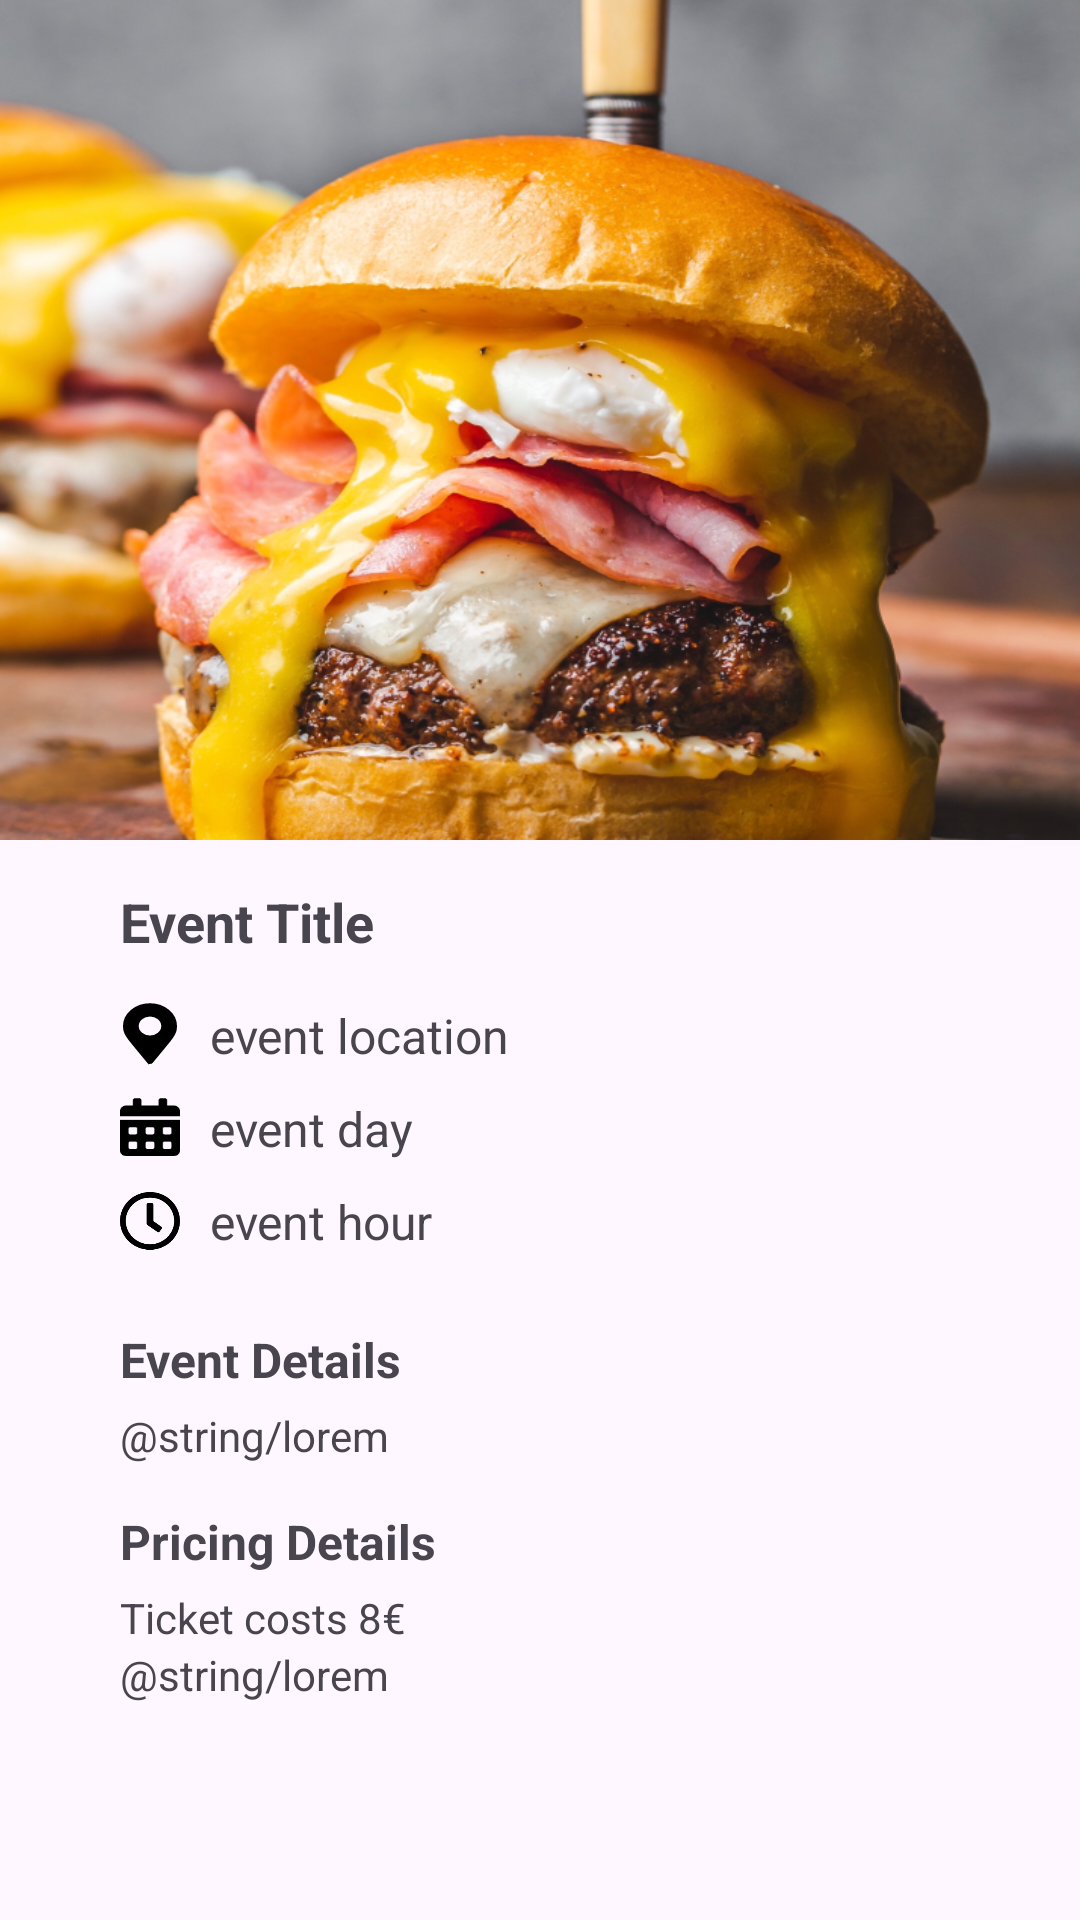

Icon bounding boxes for this 1080px×1920px phone screenshot, format (x1, y1, x2, y2):
calendar: (120, 1098, 180, 1156)
clock: (120, 1192, 180, 1250)
